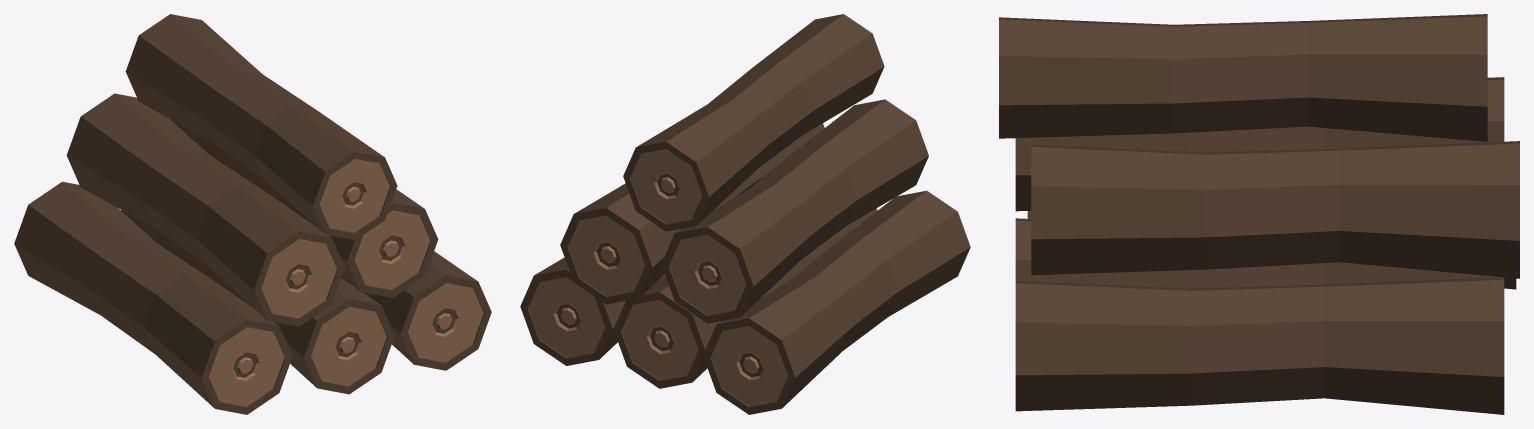
The model's file is Log Pile.fbx.
The picture shows the model from 3 angles, left to right: view 1: azimuth 30°, elevation 25°; view 2: azimuth 150°, elevation 25°; view 3: azimuth 270°, elevation 25°; orthographic projection. The views are drawn at different scales.
Parts seen in each view (by area): view 1: Log Pile; view 2: Log Pile; view 3: Log Pile.
Boxes of the visible parts, bbox=[...] form: Log Pile: bbox=[14, 14, 491, 414]; Log Pile: bbox=[520, 14, 970, 414]; Log Pile: bbox=[999, 14, 1519, 414].
Bounding box in the file's own units: 62.78 × 53.44 × 44.35.
